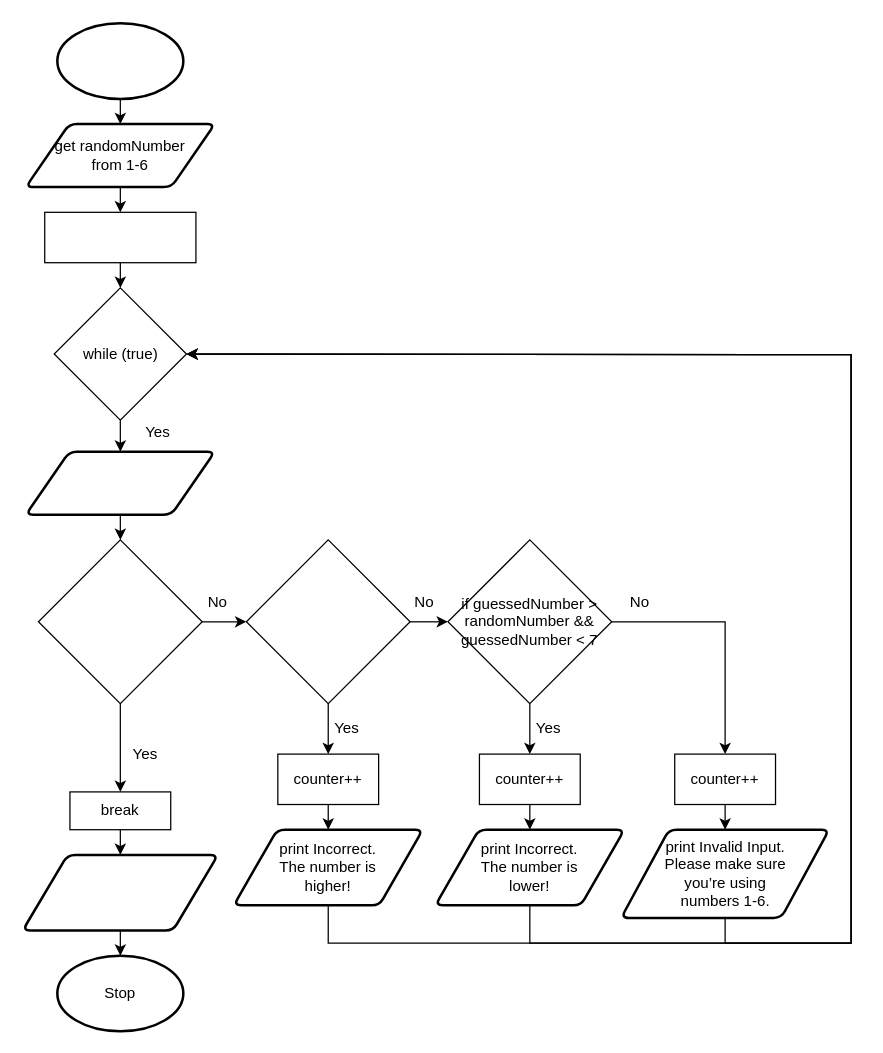
Some shapes in this 883 by 1053 pixel diagram are drawn without their labels. Here are the shapes that lost their labels. From the top down, the centre of each, then its label:
the point at 119,60: Start
the point at 119,237: counter = 1
the point at 119,482: get guessedNumber
the point at 119,621: if guessedNumber == randomNumber
the point at 327,621: if guessedNumber < randomNumber && guessedNumber > 0
the point at 120,892: print You Guessed Correctly! Tries: counter
